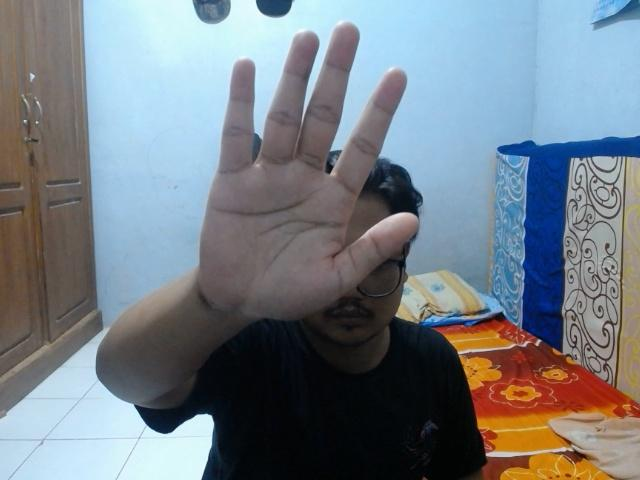Release: (198, 18, 424, 329)
